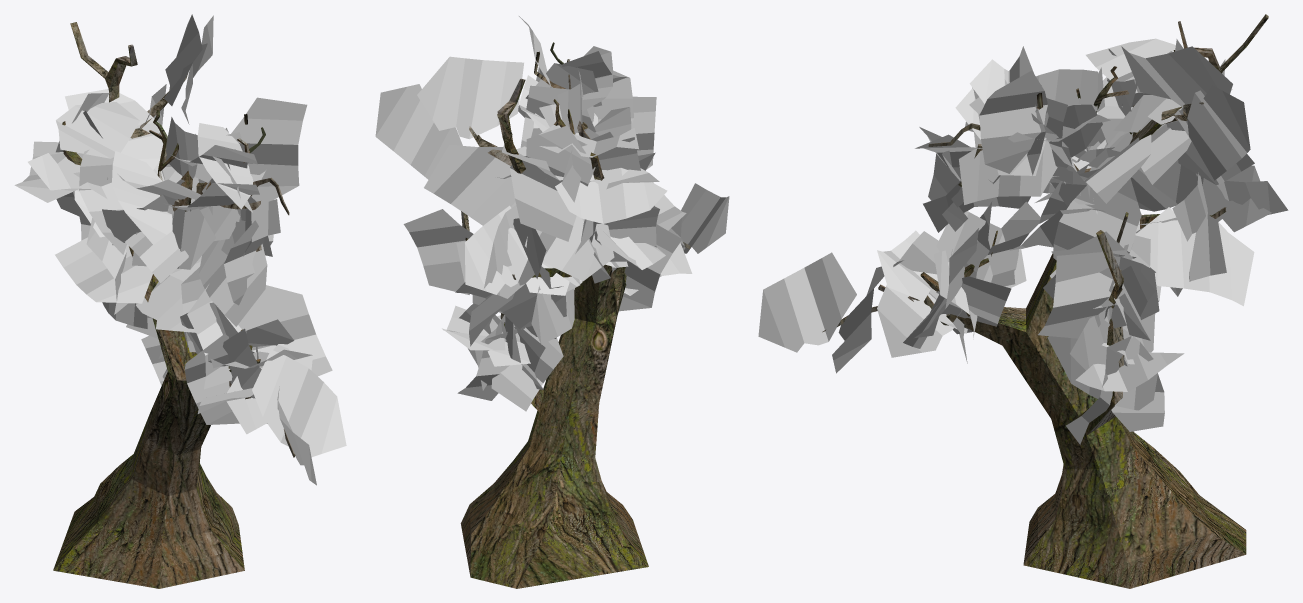
Rendered from Tree1.fbx.
3 views of the same model, side by side, from view 1: azimuth 30°, elevation 25°; view 2: azimuth 150°, elevation 25°; view 3: azimuth 270°, elevation 25° (orthographic). The views are drawn at different scales.
Visible parts, largest first — view 1: Cube.030, Cube.030|leaves2|Dupli|32, Cube.030|leaves2|Dupli|41, Cube.030|leaves2|Dupli|34, Cube.030|leaves2|Dupli|9, Cube.030|leaves2|Dupli|63, Cube.030|leaves2|Dupli|19, Cube.030|leaves2|Dupli|73, Cube.030|leaves2|Dupli|35, Cube.030|leaves2|Dupli|22, Cube.030|leaves2|Dupli|59, Cube.030|leaves2|Dupli|38 (+28 smaller); view 2: Cube.030, Cube.030|leaves2|Dupli|40, Cube.030|leaves2|Dupli|66, Cube.030|leaves2|Dupli|37, Cube.030|leaves2|Dupli|39, Cube.030|leaves2|Dupli|62, Cube.030|leaves2|Dupli|51, Cube.030|leaves2|Dupli|31, Cube.030|leaves2|Dupli|58, Cube.030|leaves2|Dupli|33, Cube.030|leaves2|Dupli|50, Cube.030|leaves2|Dupli|35 (+27 smaller); view 3: Cube.030, Cube.030|leaves2|Dupli|33, Cube.030|leaves2|Dupli|27, Cube.030|leaves2|Dupli|52, Cube.030|leaves2|Dupli|41, Cube.030|leaves2|Dupli|39, Cube.030|leaves2|Dupli|40, Cube.030|leaves2|Dupli|4, Cube.030|leaves2|Dupli|57, Cube.030|leaves2|Dupli|74, Cube.030|leaves2|Dupli|28, Cube.030|leaves2|Dupli|46 (+33 smaller).
Boxes of the visible parts, x1,y1,x2,y2 form: Cube.030: (53, 22, 295, 588); Cube.030|leaves2|Dupli|32: (252, 349, 346, 457); Cube.030|leaves2|Dupli|41: (231, 97, 307, 201); Cube.030|leaves2|Dupli|34: (238, 285, 332, 376); Cube.030|leaves2|Dupli|9: (55, 237, 152, 303); Cube.030|leaves2|Dupli|63: (56, 102, 139, 158); Cube.030|leaves2|Dupli|19: (112, 151, 172, 244); Cube.030|leaves2|Dupli|73: (198, 239, 267, 326); Cube.030|leaves2|Dupli|35: (184, 334, 254, 424); Cube.030|leaves2|Dupli|22: (197, 123, 252, 209); Cube.030|leaves2|Dupli|59: (79, 149, 126, 254); Cube.030|leaves2|Dupli|38: (65, 89, 163, 169); Cube.030: (460, 42, 690, 588); Cube.030|leaves2|Dupli|40: (417, 56, 523, 139); Cube.030|leaves2|Dupli|66: (510, 125, 595, 241); Cube.030|leaves2|Dupli|37: (424, 145, 516, 225); Cube.030|leaves2|Dupli|39: (375, 84, 462, 179); Cube.030|leaves2|Dupli|62: (555, 168, 667, 223); Cube.030|leaves2|Dupli|51: (403, 209, 473, 294); Cube.030|leaves2|Dupli|31: (465, 205, 527, 294); Cube.030|leaves2|Dupli|58: (525, 216, 614, 281); Cube.030|leaves2|Dupli|33: (681, 183, 729, 253); Cube.030|leaves2|Dupli|50: (491, 337, 563, 411); Cube.030|leaves2|Dupli|35: (619, 224, 682, 311); Cube.030: (822, 14, 1268, 588); Cube.030|leaves2|Dupli|33: (758, 252, 856, 352); Cube.030|leaves2|Dupli|27: (1135, 207, 1254, 306); Cube.030|leaves2|Dupli|52: (1038, 231, 1133, 338); Cube.030|leaves2|Dupli|41: (979, 70, 1047, 173); Cube.030|leaves2|Dupli|39: (1187, 85, 1250, 180); Cube.030|leaves2|Dupli|40: (1121, 46, 1232, 107); Cube.030|leaves2|Dupli|4: (877, 231, 953, 357); Cube.030|leaves2|Dupli|57: (1053, 178, 1141, 260); Cube.030|leaves2|Dupli|74: (959, 141, 1057, 204); Cube.030|leaves2|Dupli|28: (1153, 160, 1271, 232); Cube.030|leaves2|Dupli|46: (1047, 329, 1157, 410).
Size of the model in its own units: 376 by 703 by 633.
